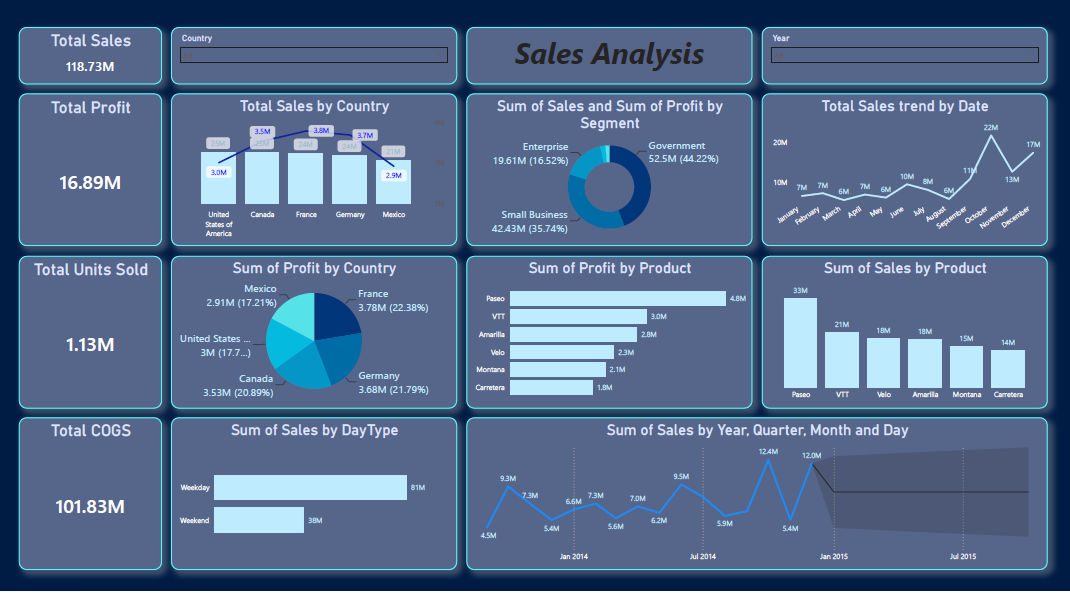

What the dashboard file says about the page in this screenshot:
{"tool":"powerbi","page":{"name":"Sales & Profitability Analysis Dashboard","canvas":[1800,990],"ordinal":0},"visuals":[{"type":"lineClusteredColumnComboChart","title":"Total Sales by Country","fields":{"Category":["financials.Country"],"Y":["Sum(financials.Sales)"],"Y2":["Sum(financials.Profit)"]},"box":[288,160,480,256],"z":0},{"type":"lineChart","title":"Total Sales trend by Date","fields":{"Y":["Sum(financials.Sales)"],"Category":["financials.Date.Variation.Date Hierarchy.Month"]},"box":[1280,160,480,256],"z":1000},{"type":"donutChart","fields":{"Category":["financials.Segment"],"Y":["Sum(financials.Sales)"]},"box":[784,160,480,256],"z":2000},{"type":"cardVisual","title":"Total Sales","fields":{"Data":["Sum(financials.Sales)"]},"box":[32,48,240,96],"z":3000},{"type":"cardVisual","title":"Total Profit","fields":{"Data":["Sum(financials.Profit)"]},"box":[32,160,240,256],"z":4000},{"type":"cardVisual","title":"Total Units Sold","fields":{"Data":["Sum(financials.Units Sold)"]},"box":[32,432,240,256],"z":5000},{"type":"pieChart","fields":{"Y":["Sum(financials.Profit)"],"Category":["financials.Country"]},"box":[288,432,480,256],"z":6000},{"type":"columnChart","fields":{"Category":["financials.Product"],"Y":["Sum(financials.Sales)"]},"box":[1280,432,480,256],"z":7000},{"type":"slicer","fields":{"Values":["financials.Date.Variation.Date Hierarchy.Year"]},"box":[1280,48,480,96],"z":8000},{"type":"slicer","fields":{"Values":["financials.Country"]},"box":[288,48,480,96],"z":9000},{"type":"clusteredBarChart","fields":{"Category":["financials.Product"],"Y":["Sum(financials.Profit)"]},"box":[784,432,480,256],"z":10000},{"type":"clusteredBarChart","fields":{"Category":["financials.DayType"],"Y":["Sum(financials.Sales)"]},"box":[288,704,480,256],"z":11000},{"type":"lineChart","fields":{"Y":["Sum(financials.Sales)"],"Category":["financials.Date.Variation.Date Hierarchy.Year","financials.Date.Variation.Date Hierarchy.Quarter","financials.Date.Variation.Date Hierarchy.Month","financials.Date.Variation.Date Hierarchy.Day"]},"box":[784,704,976,256],"z":12000},{"type":"textbox","box":[784,48,480,96],"z":13000},{"type":"cardVisual","title":"Total COGS","fields":{"Data":["Sum(financials.COGS)"]},"box":[32,704,240,256],"z":14000}]}

Visuals, with their boxes in screenshot pixels (x1, y1, x2, y2), scaled from the page's 1800x990 canvas onto the 1070x593 screenshot:
"Total Sales by Country" lineClusteredColumnComboChart: crop(171, 96, 457, 249)
"Total Sales trend by Date" lineChart: crop(761, 96, 1046, 249)
donutChart - financials.Segment x Sum(financials.Sales): crop(466, 96, 751, 249)
"Total Sales" cardVisual: crop(19, 29, 162, 86)
"Total Profit" cardVisual: crop(19, 96, 162, 249)
"Total Units Sold" cardVisual: crop(19, 259, 162, 412)
pieChart - Sum(financials.Profit) x financials.Country: crop(171, 259, 457, 412)
columnChart - financials.Product x Sum(financials.Sales): crop(761, 259, 1046, 412)
slicer - financials.Date.Variation.Date Hierarchy.Year: crop(761, 29, 1046, 86)
slicer - financials.Country: crop(171, 29, 457, 86)
clusteredBarChart - financials.Product x Sum(financials.Profit): crop(466, 259, 751, 412)
clusteredBarChart - financials.DayType x Sum(financials.Sales): crop(171, 422, 457, 575)
lineChart - Sum(financials.Sales) x financials.Date.Variation.Date Hierarchy.Year: crop(466, 422, 1046, 575)
textbox: crop(466, 29, 751, 86)
"Total COGS" cardVisual: crop(19, 422, 162, 575)
